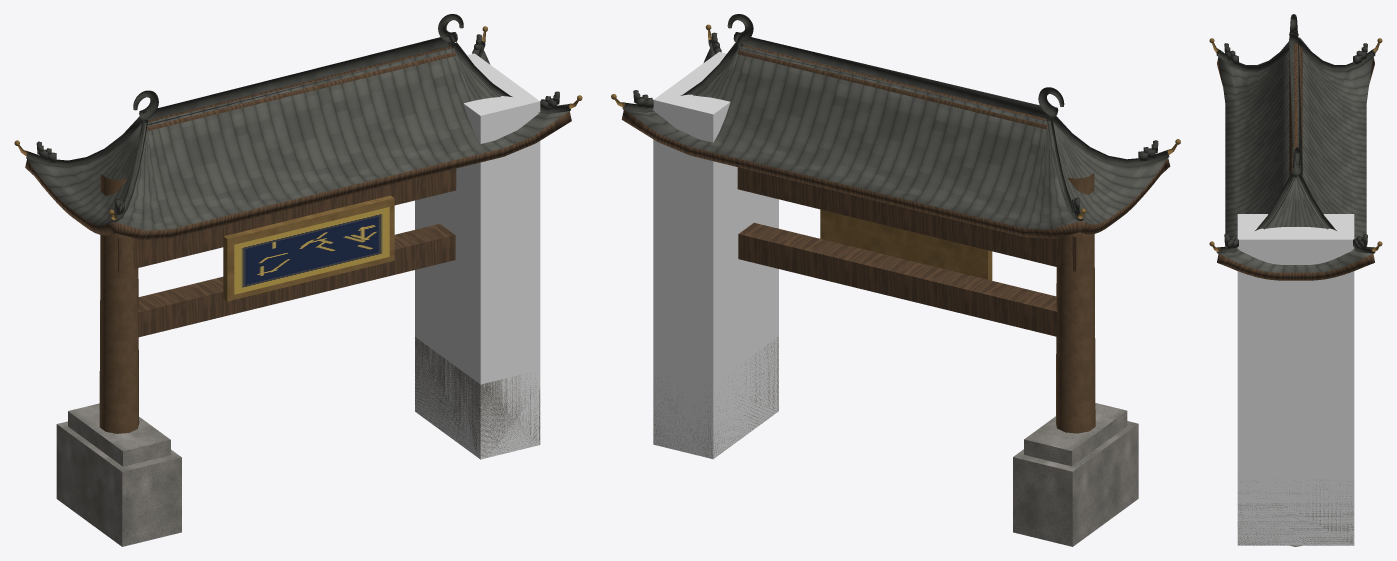
The model's file is forest_gate.glb.
3 views of the same model, side by side, from view 1: azimuth 30°, elevation 25°; view 2: azimuth 150°, elevation 25°; view 3: azimuth 270°, elevation 25° (orthographic). The views are drawn at different scales.
Visible parts, largest first — view 1: ForestGateR0Roof, ForestGatePier-convcolonly.001, ForestGatePlinths, ForestGateBeams, Plaque, ForestGatePillars, ForestGateR0RoofRidges, PlaqueFrame, ForestGateR0RidgeBeasts; view 2: ForestGateR0Roof, ForestGatePier-convcolonly.001, ForestGateBeams, ForestGatePlinths, ForestGatePillars, ForestGateR0RoofRidges, PlaqueFrame, ForestGateR0RidgeBeasts; view 3: ForestGatePier-convcolonly.001, ForestGateR0Roof, ForestGateR0RoofRidges, ForestGatePlinths, ForestGateR0RidgeBeasts, ForestGateR0RoofOrnaments.
Part boxes in pixels (box(x1,y1,x2,y2)): ForestGateR0Roof: box(25, 46, 571, 239); ForestGatePier-convcolonly.001: box(415, 53, 540, 459); ForestGatePlinths: box(56, 337, 540, 546); ForestGateBeams: box(118, 168, 456, 337); Plaque: box(234, 207, 389, 294); ForestGatePillars: box(99, 174, 139, 433); ForestGateR0RoofRidges: box(26, 14, 570, 222); PlaqueFrame: box(223, 195, 394, 301); ForestGateR0RidgeBeasts: box(36, 34, 559, 214); ForestGateR0Roof: box(621, 45, 1170, 238); ForestGatePier-convcolonly.001: box(653, 52, 778, 458); ForestGateBeams: box(737, 167, 1076, 336); ForestGatePlinths: box(653, 337, 1138, 546); ForestGatePillars: box(1056, 173, 1095, 433); ForestGateR0RoofRidges: box(622, 14, 1169, 220); PlaqueFrame: box(820, 209, 992, 280); ForestGateR0RidgeBeasts: box(633, 32, 1158, 213); ForestGatePier-convcolonly.001: box(1237, 214, 1354, 545); ForestGateR0Roof: box(1217, 43, 1374, 280); ForestGateR0RoofRidges: box(1216, 14, 1375, 253); ForestGatePlinths: box(1237, 479, 1354, 546); ForestGateR0RidgeBeasts: box(1224, 43, 1367, 248); ForestGateR0RoofOrnaments: box(1209, 38, 1382, 251).
Size of what is drawn, in the model's own units: 7.92 by 6.76 by 2.82.
8 materials, 8 textured.
